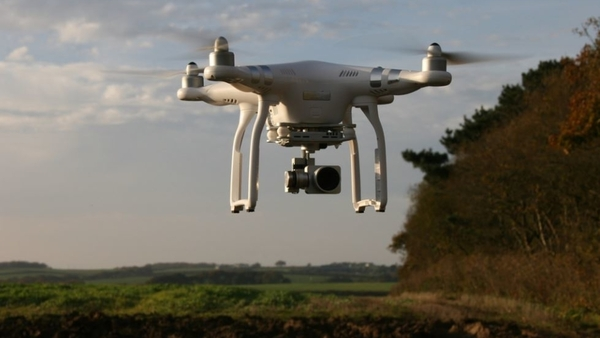drone: (102, 33, 527, 215)
